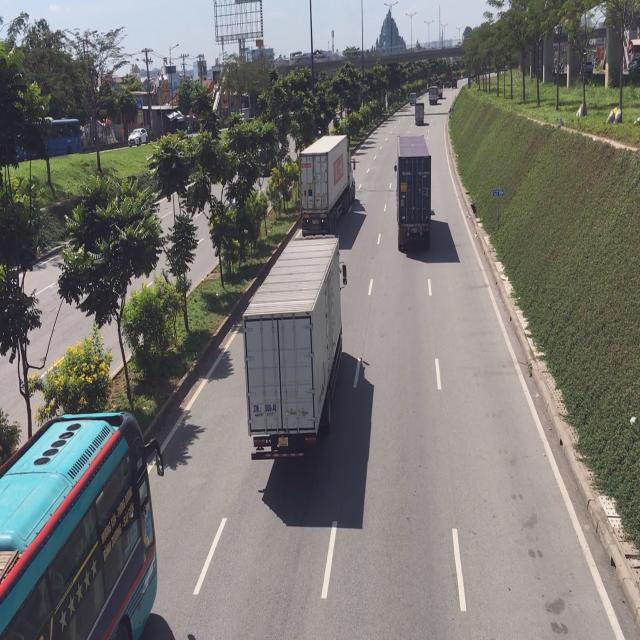bus: (3, 412, 160, 640)
truck: (247, 231, 346, 458), (303, 134, 356, 247), (397, 127, 436, 253)
